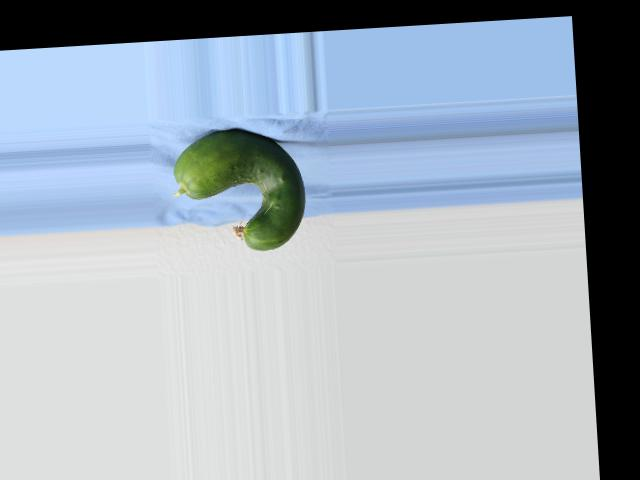cucumber: (171, 125, 308, 255)
